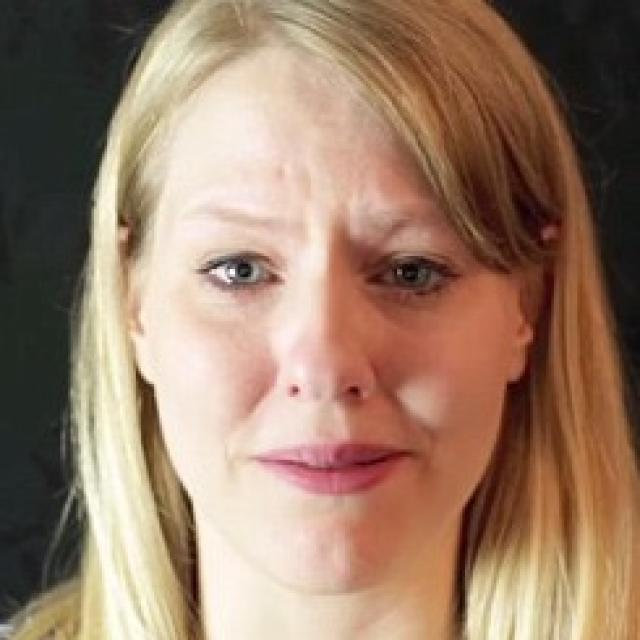Depress: (147, 49, 516, 599)
